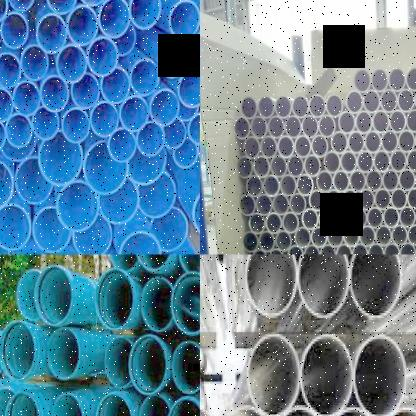pipe: (242, 330, 302, 416), (297, 331, 355, 416), (351, 332, 408, 416), (348, 255, 407, 319), (242, 255, 301, 318), (295, 255, 352, 318), (82, 140, 129, 195), (94, 268, 134, 332), (38, 130, 83, 185), (55, 181, 99, 233), (34, 266, 72, 326), (129, 335, 166, 396), (0, 321, 35, 380), (99, 178, 139, 224), (138, 172, 177, 219), (140, 277, 173, 332), (15, 157, 54, 203), (32, 206, 71, 252), (172, 271, 200, 335), (46, 328, 80, 380), (149, 207, 188, 251), (72, 214, 112, 255), (171, 341, 200, 395), (128, 146, 166, 185), (104, 337, 133, 387), (0, 204, 30, 249), (167, 0, 200, 40), (87, 36, 119, 77), (157, 38, 189, 79), (97, 0, 130, 38), (17, 269, 41, 321), (68, 5, 98, 46), (37, 13, 67, 54), (56, 45, 87, 82), (39, 76, 70, 112), (130, 59, 160, 95), (117, 230, 162, 254), (150, 89, 179, 126), (120, 95, 149, 132), (136, 122, 166, 157), (0, 13, 29, 49), (21, 44, 49, 81), (101, 68, 130, 103), (71, 74, 100, 109), (90, 102, 119, 137), (61, 108, 90, 143), (107, 128, 136, 163), (13, 81, 41, 116), (4, 114, 32, 148), (32, 106, 59, 140), (130, 0, 161, 29), (178, 71, 200, 108), (95, 394, 132, 416), (4, 393, 38, 416), (173, 139, 198, 170), (0, 52, 20, 89), (51, 393, 83, 416), (114, 24, 136, 56), (164, 118, 186, 150), (138, 395, 170, 416), (134, 254, 173, 271), (0, 159, 13, 208), (168, 398, 200, 416), (108, 254, 137, 271), (353, 68, 372, 93), (379, 88, 398, 113), (325, 93, 344, 117), (249, 115, 268, 139), (330, 131, 349, 155), (388, 67, 406, 92), (362, 89, 380, 114), (46, 0, 78, 14), (0, 88, 13, 122), (370, 68, 388, 92), (397, 88, 415, 112), (346, 90, 364, 114), (308, 94, 326, 118), (292, 94, 310, 118), (257, 95, 275, 119), (274, 95, 292, 119), (240, 95, 258, 119), (301, 114, 319, 138), (284, 114, 302, 138), (380, 130, 398, 154), (364, 130, 382, 154), (311, 134, 329, 158), (340, 150, 358, 174), (0, 386, 14, 416), (252, 156, 271, 178), (338, 111, 356, 134), (318, 114, 336, 137), (294, 135, 312, 158), (322, 151, 340, 174), (304, 154, 322, 177), (398, 168, 416, 191), (262, 174, 280, 197), (372, 110, 389, 134), (398, 130, 415, 154), (348, 130, 365, 154), (270, 154, 287, 178), (382, 168, 399, 192), (190, 30, 200, 70), (315, 170, 333, 192), (296, 174, 314, 196), (308, 190, 326, 212), (289, 192, 307, 214), (350, 207, 368, 229), (282, 212, 300, 234), (178, 254, 200, 272), (260, 136, 277, 159), (243, 136, 260, 159), (373, 150, 390, 173), (280, 174, 297, 197), (374, 188, 391, 211), (272, 193, 289, 216), (318, 207, 335, 230), (188, 113, 200, 145), (390, 109, 406, 133), (356, 110, 372, 134), (268, 114, 284, 138), (357, 150, 373, 174), (366, 168, 382, 192), (277, 136, 294, 158), (390, 150, 407, 172), (349, 170, 366, 192), (333, 170, 350, 192), (247, 175, 264, 197), (325, 190, 342, 212), (256, 194, 273, 216), (249, 212, 266, 234), (359, 225, 376, 247), (343, 226, 360, 248), (234, 116, 250, 139), (288, 154, 304, 177), (311, 226, 327, 249), (294, 228, 312, 248), (275, 231, 292, 252), (237, 156, 253, 178), (391, 188, 407, 210), (358, 188, 374, 210), (342, 189, 358, 211), (240, 194, 256, 216), (400, 206, 416, 228), (384, 206, 400, 228), (367, 207, 383, 229), (335, 207, 351, 229), (302, 208, 318, 230), (266, 212, 282, 234), (392, 225, 408, 247), (376, 225, 392, 247), (258, 230, 274, 252), (242, 231, 258, 253), (327, 226, 343, 247), (7, 0, 35, 11), (405, 66, 416, 91), (405, 108, 416, 133), (406, 148, 416, 172), (407, 187, 416, 209), (400, 242, 416, 254), (407, 224, 416, 245), (367, 243, 384, 254), (384, 243, 400, 254), (352, 243, 368, 254), (0, 118, 5, 152), (336, 244, 352, 254), (320, 244, 336, 254), (287, 245, 304, 254), (303, 245, 319, 254), (251, 249, 268, 254), (268, 249, 284, 254), (414, 87, 416, 112), (414, 128, 416, 152), (415, 168, 416, 191), (415, 205, 416, 227)
